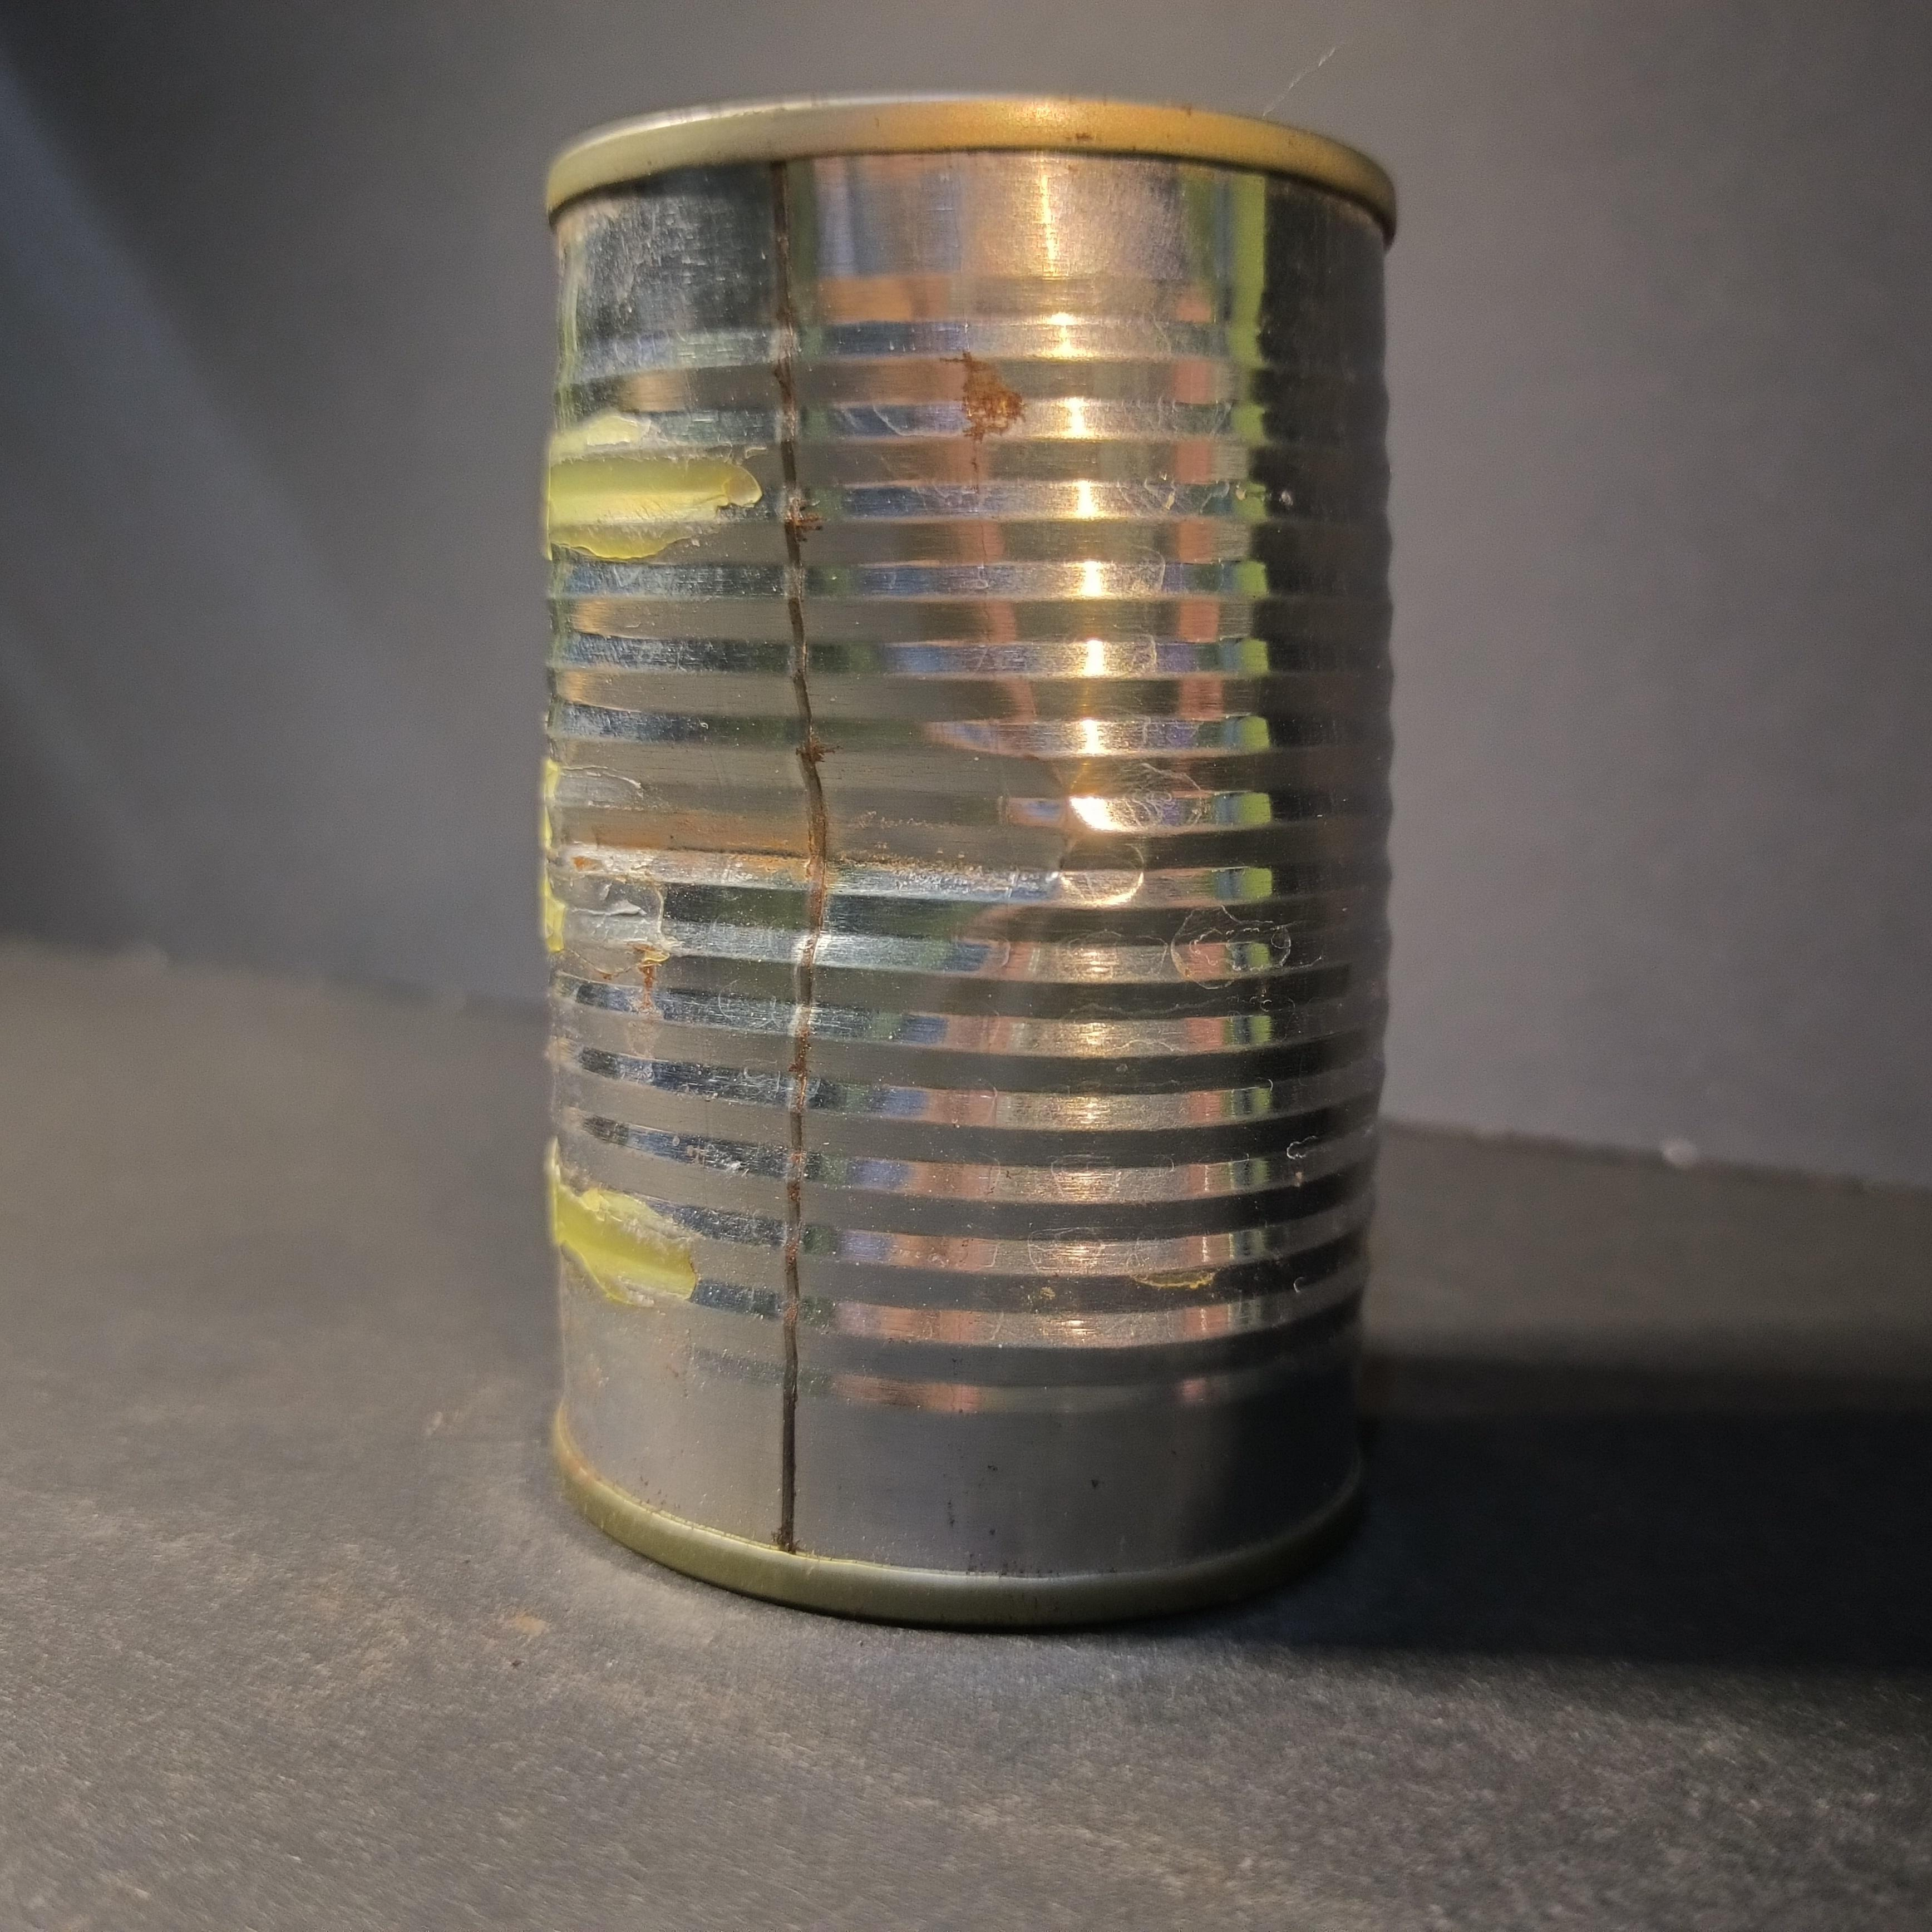Dented: (529, 62, 1428, 1667)
